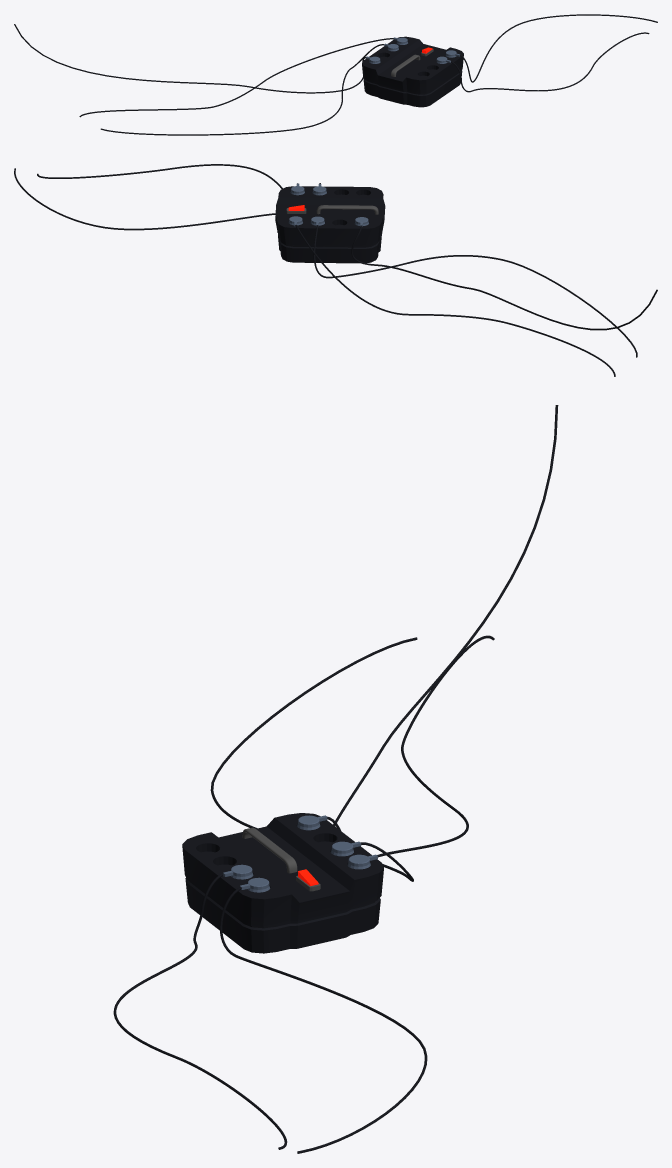
The model's file is Consent.fbx.
3 views of the same model, one above another, from view 1: azimuth 30°, elevation 25°; view 2: azimuth 150°, elevation 25°; view 3: azimuth 270°, elevation 25° (orthographic). The views are drawn at different scales.
Visible parts, largest first — view 1: Cube.126; view 2: Cube.126; view 3: Cube.126.
Part boxes in pixels (bbox=[...]): Cube.126: bbox=[14, 14, 657, 135]; Cube.126: bbox=[14, 164, 657, 376]; Cube.126: bbox=[113, 405, 558, 1153].
Size of the model in its own units: 501 by 80.11 by 166.
